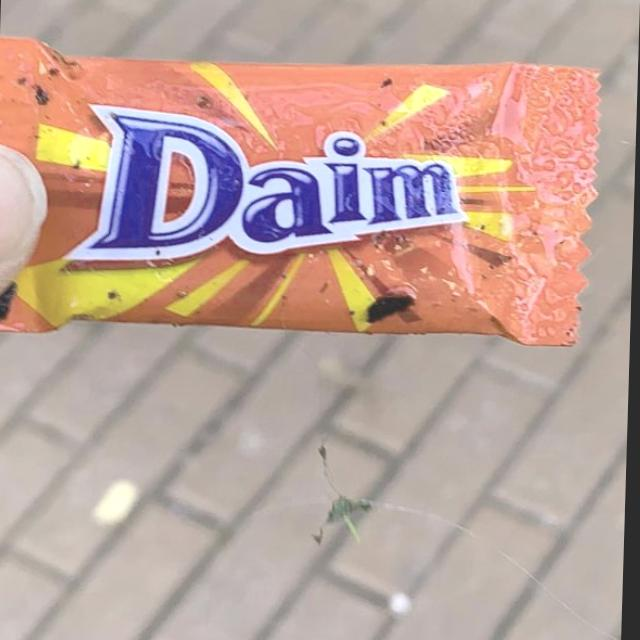Plastic: (0, 34, 609, 352)
